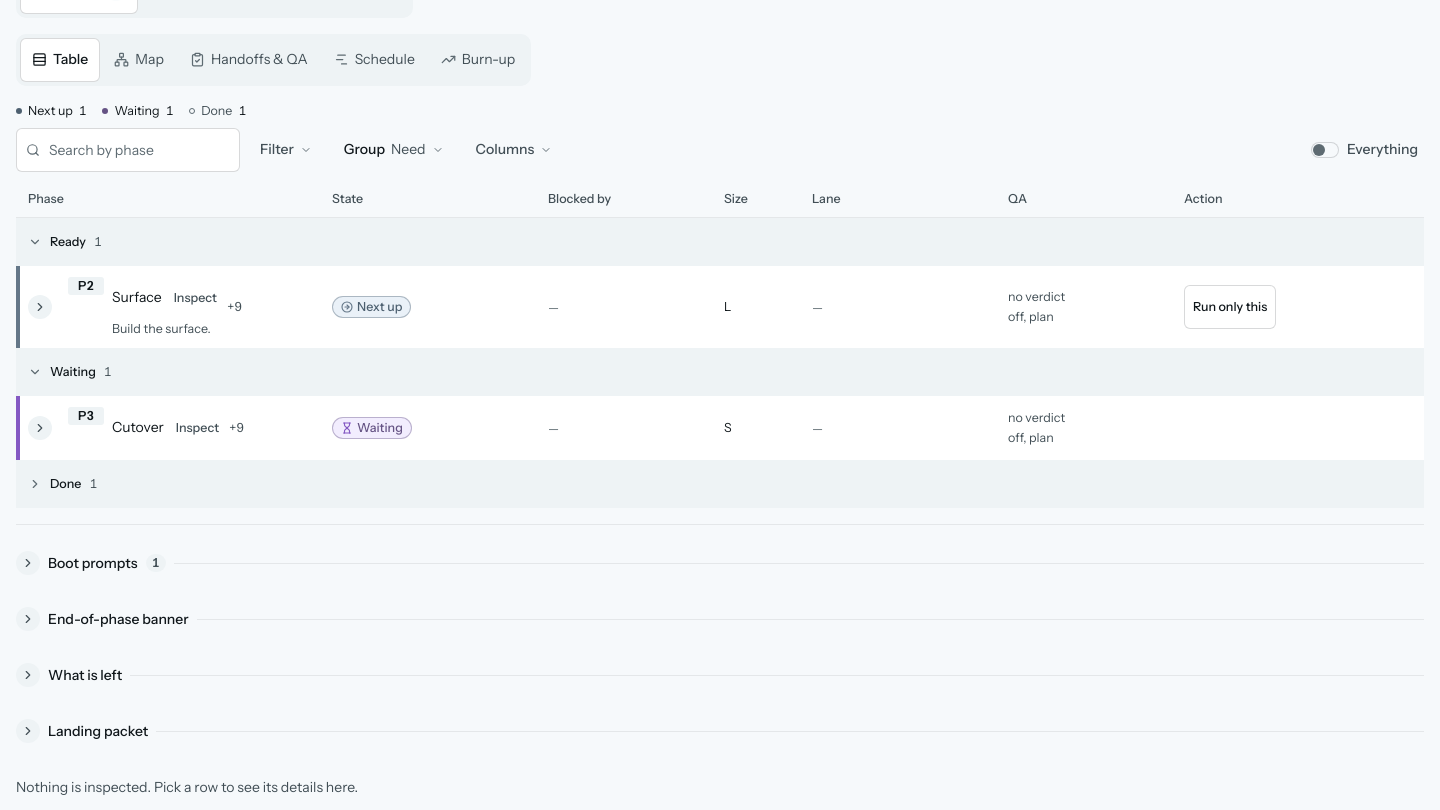
it: the plan page renders its parts › still offers the start, the boot prompts and the batches on an OPEN plan
(page scrolled)
Expected: the button with test id "foot-prompts" is shown, top-left (16, 541), bottom-right (1424, 585)
Click the button with test id "foot-left": point(85, 675) top-left (16, 653), bottom-right (1424, 697)
(page scrolled)
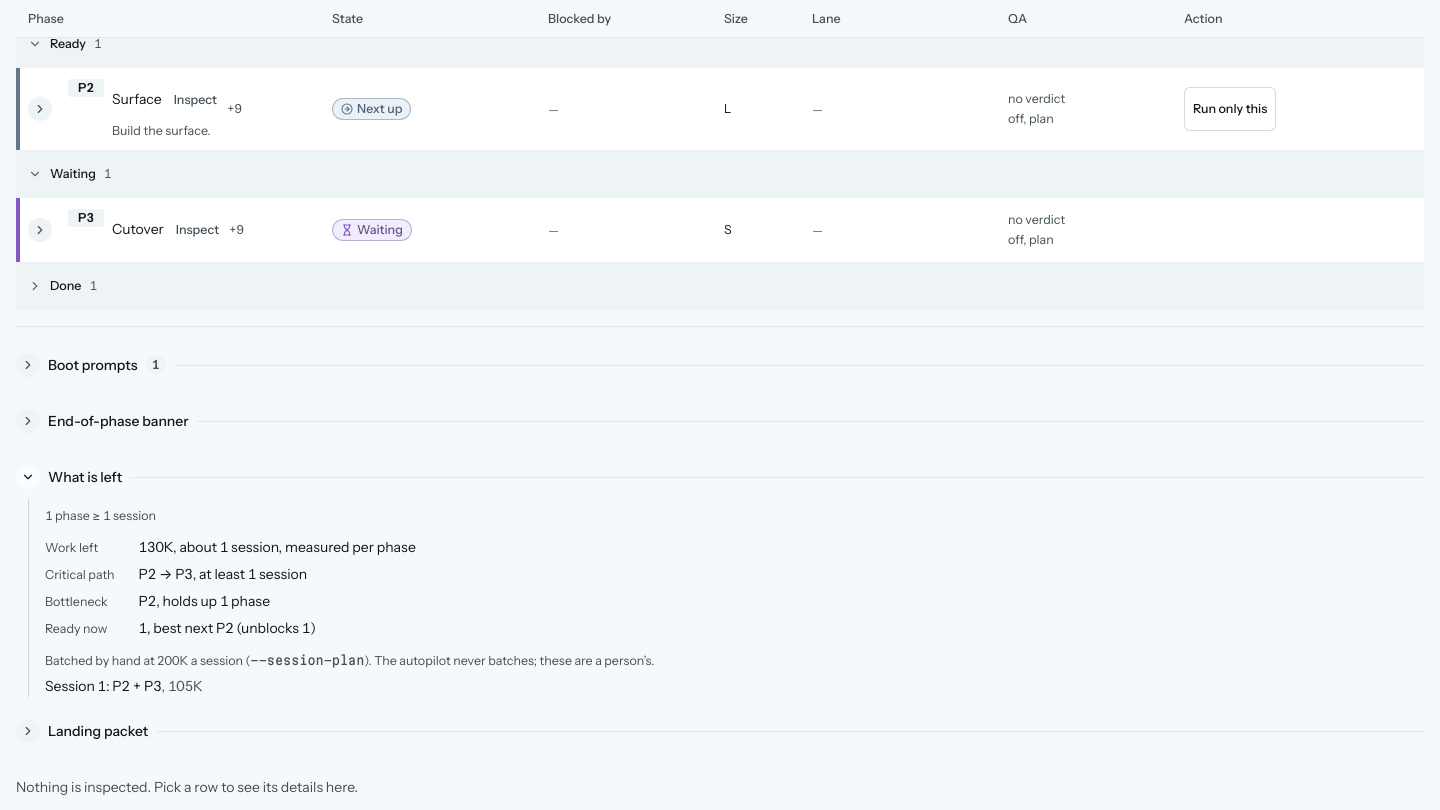
Result: the list item "Session 1: P2 + P3" is shown at top-left (45, 677), bottom-right (203, 695)
